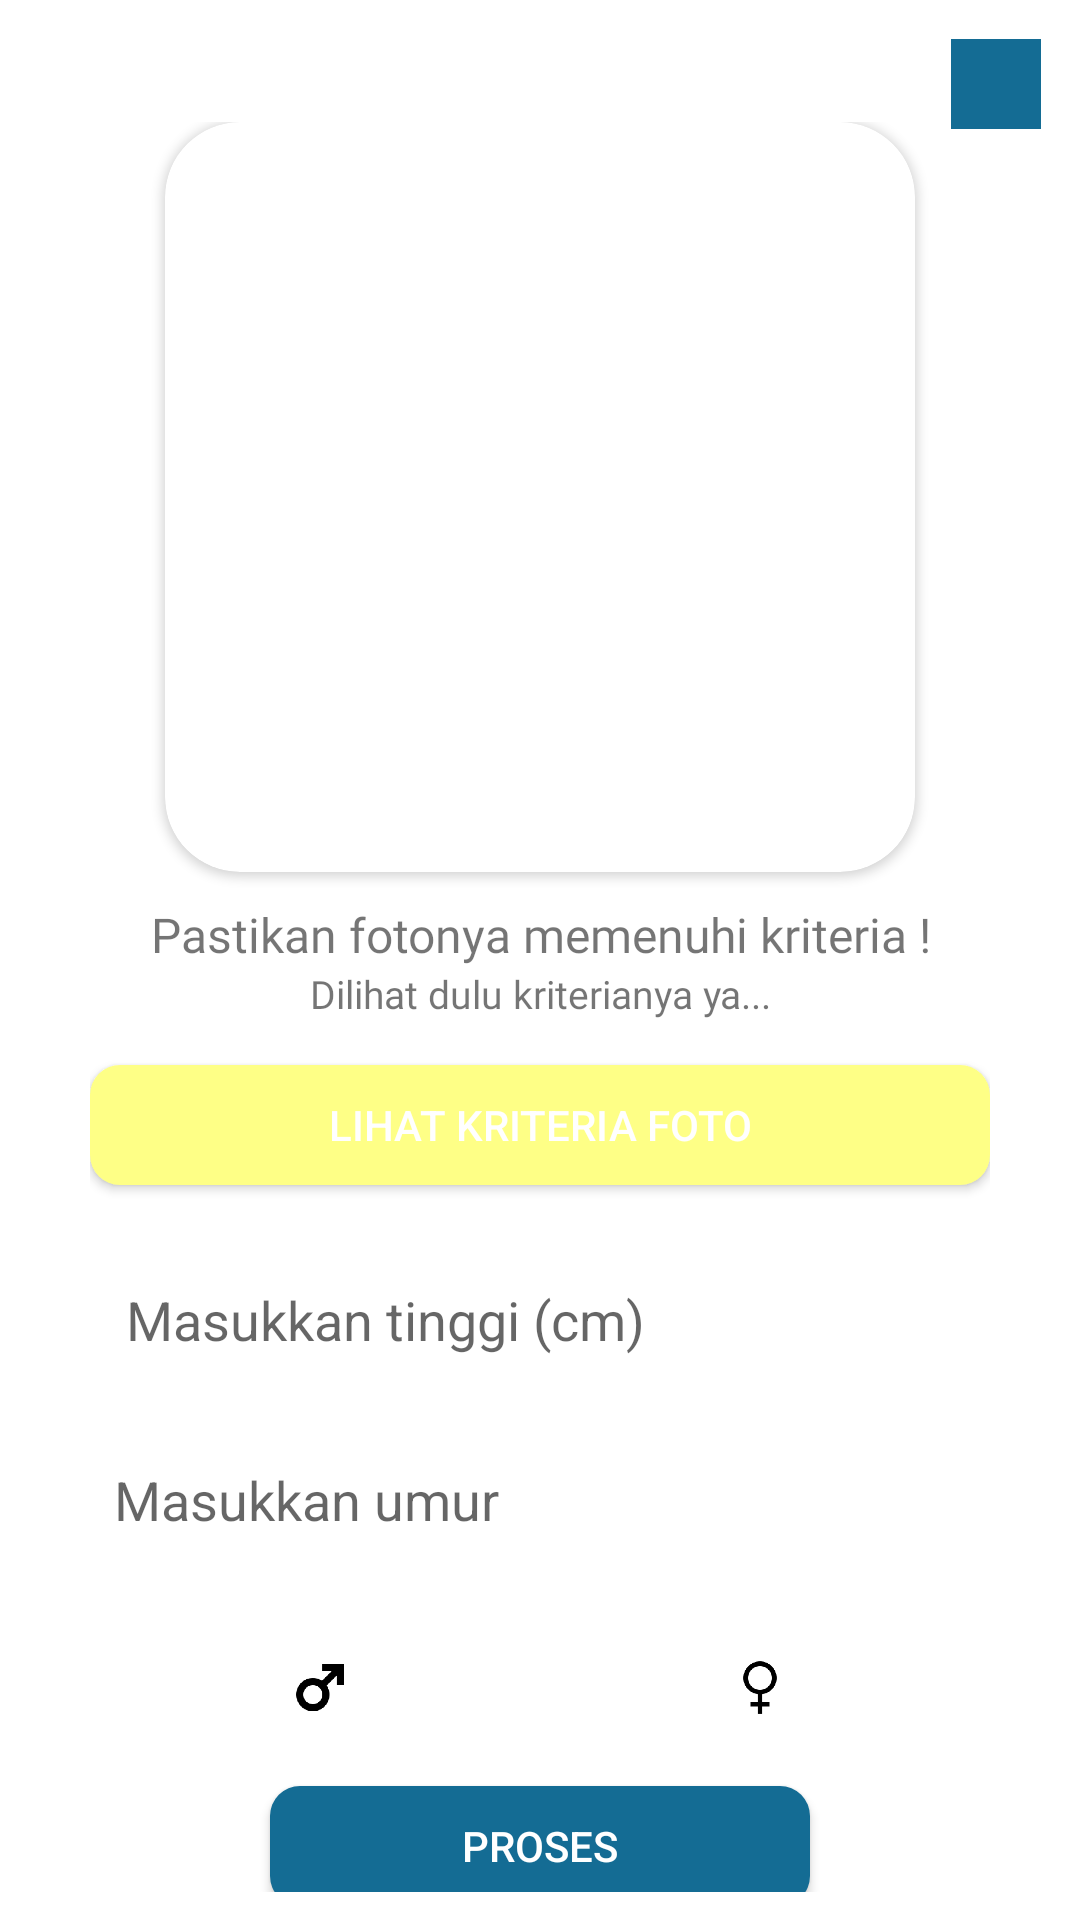

Named icons in this screenshot (1080w x 1920h) and their centers, [x,y]:
Laki - Laki: [320,1687]
Perempuan: [760,1687]
